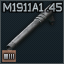M1911A1 .45 ACP threaded barrel: (0, 0, 64, 64)
